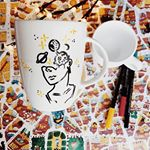cups: (10, 15, 110, 115), (90, 17, 145, 75)
